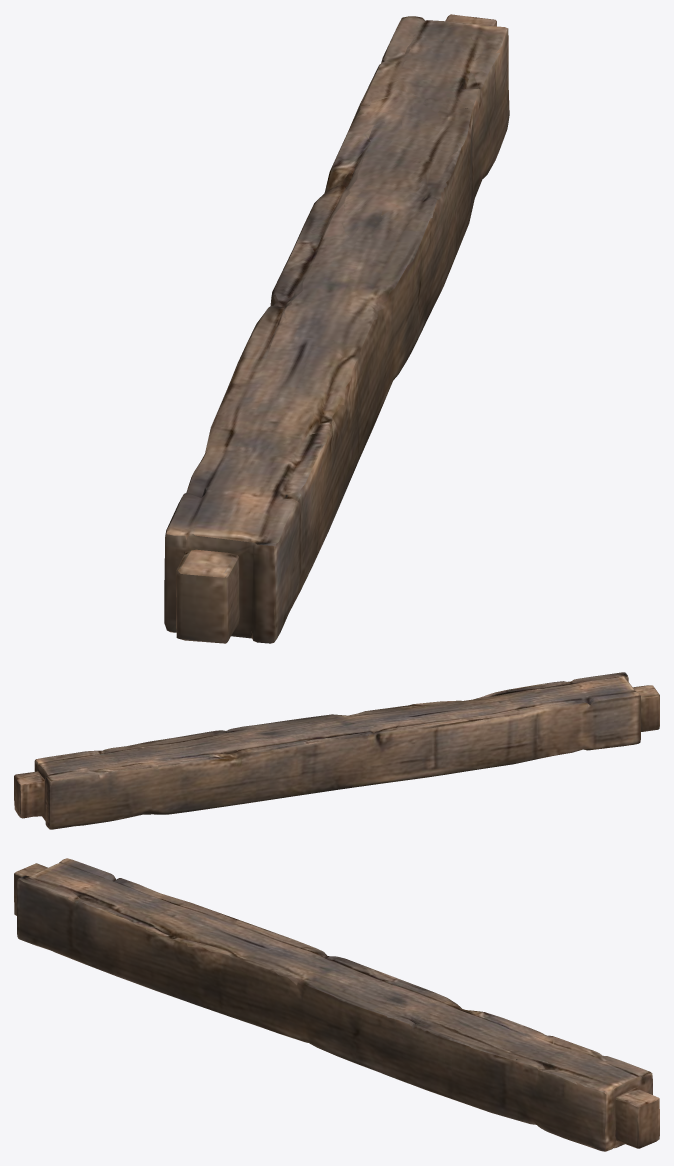
3 renders of one model, top to bottom at view 1: azimuth 30°, elevation 25°; view 2: azimuth 150°, elevation 25°; view 3: azimuth 270°, elevation 25°, orthographic. The views are drawn at different scales.
Visible parts, largest first — view 1: geometry_0; view 2: geometry_0; view 3: geometry_0.
Part boxes in pixels (box(x1,y1,x2,y2)): geometry_0: box(164, 14, 509, 643); geometry_0: box(14, 672, 659, 829); geometry_0: box(14, 858, 659, 1151).
Size of the model in its own units: 0.5999 by 0.0757 by 0.6713.
1 material, 1 textured.
